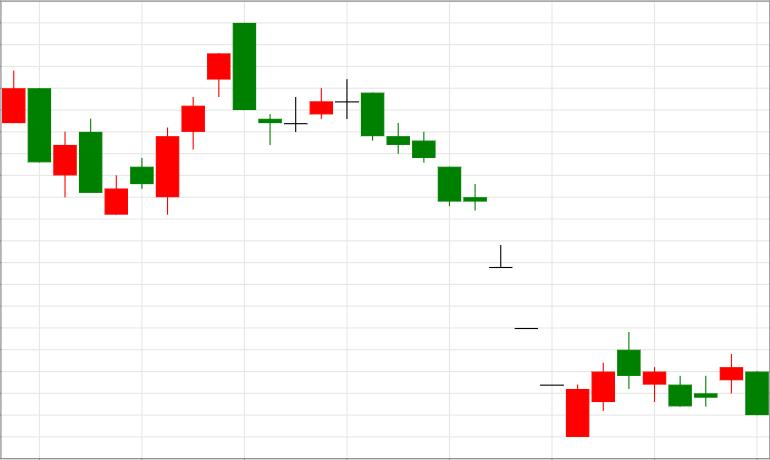bearish_engulfing_fall: (156, 23, 256, 216)
